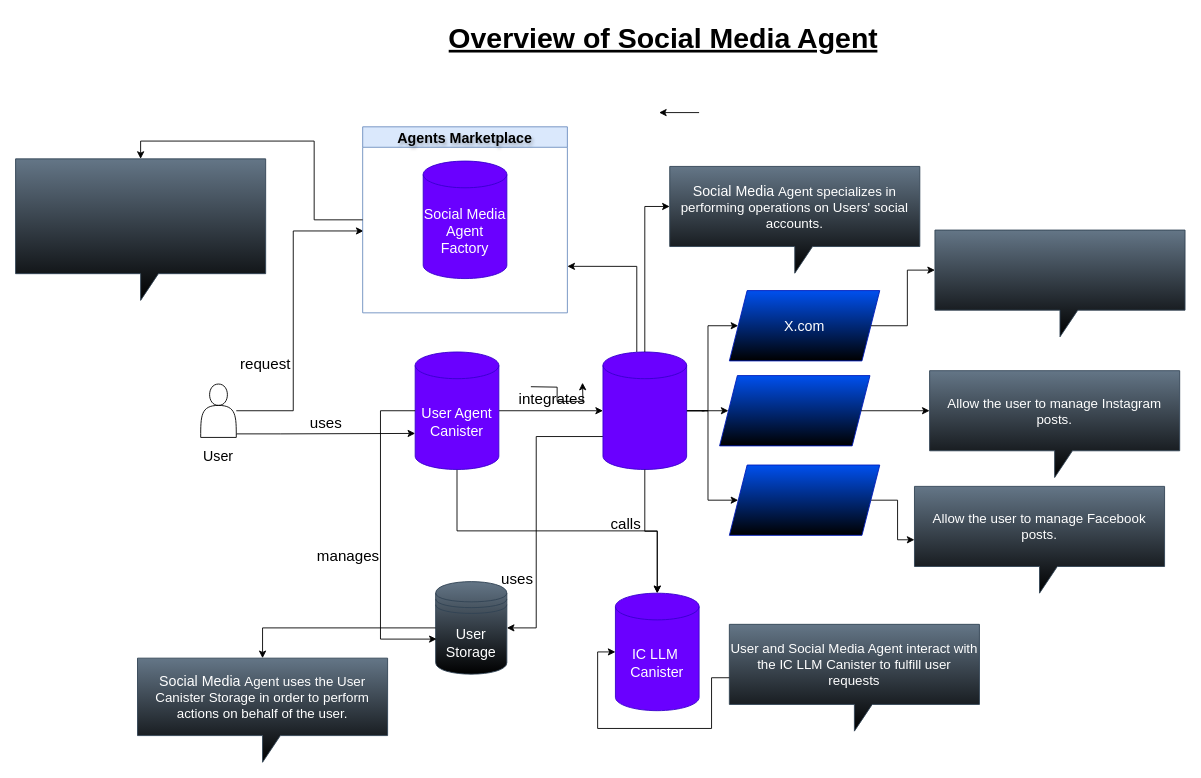
The diagram is 1201 pixels wide and 778 high, and some of its shapes have lost their labels. The shapes that lost their labels are listed below. From the top down, each one's centre as x and y in pixels, then its label:
point 140,229: Agent Marketplace allows users to integrate agents as per their use case.
point 1059,283: Allow the user to manage X posts.
point 644,410: Social Media Agent
point 794,410: Instagram
point 804,499: Facebook Page
